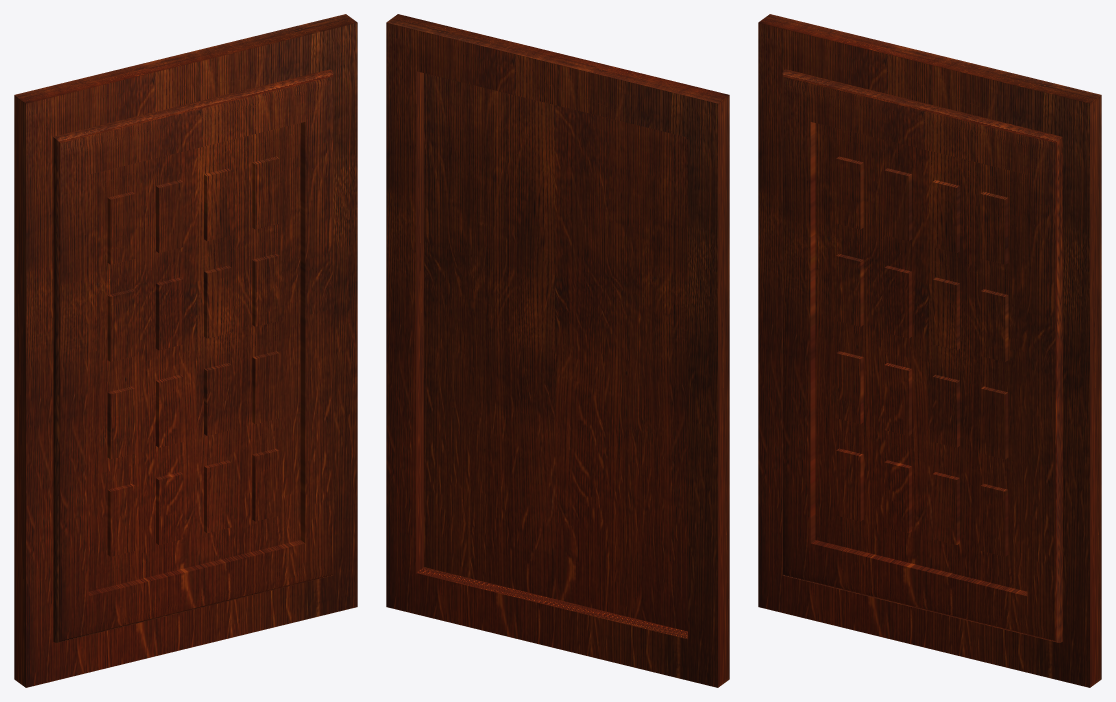
File: Tür.fbx
The picture shows the model from 3 angles, left to right: view 1: azimuth 30°, elevation 25°; view 2: azimuth 150°, elevation 25°; view 3: azimuth 330°, elevation 25°; orthographic projection.
Visible parts, largest first — view 1: Tür, Türrahmen; view 2: Tür, Türrahmen; view 3: Tür, Türrahmen.
Part boxes in pixels (x1=…): Tür: x1=53, y1=69, x2=333, y2=642; Türrahmen: x1=14, y1=14, x2=357, y2=687; Tür: x1=424, y1=73, x2=687, y2=631; Türrahmen: x1=386, y1=14, x2=729, y2=687; Tür: x1=782, y1=69, x2=1062, y2=642; Türrahmen: x1=758, y1=14, x2=1101, y2=687.
Size of the model in its own units: 64.83 by 109 by 5.73.
1 material, 1 textured.
